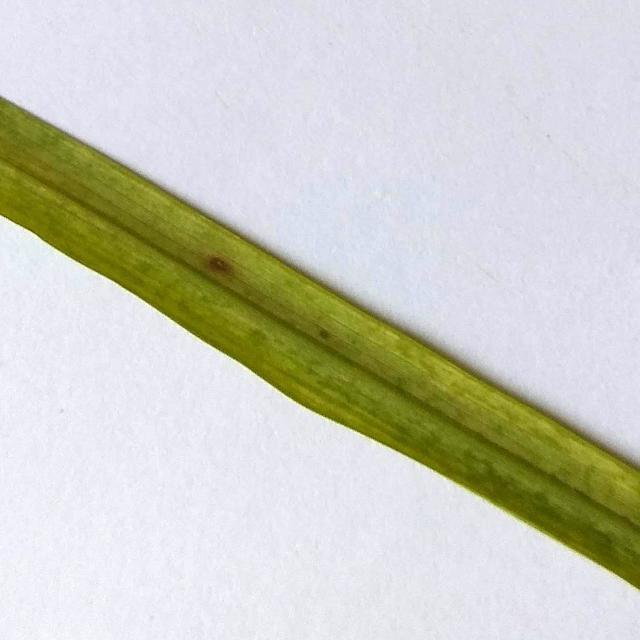brownspots: (200, 251, 246, 282), (316, 324, 344, 349)
